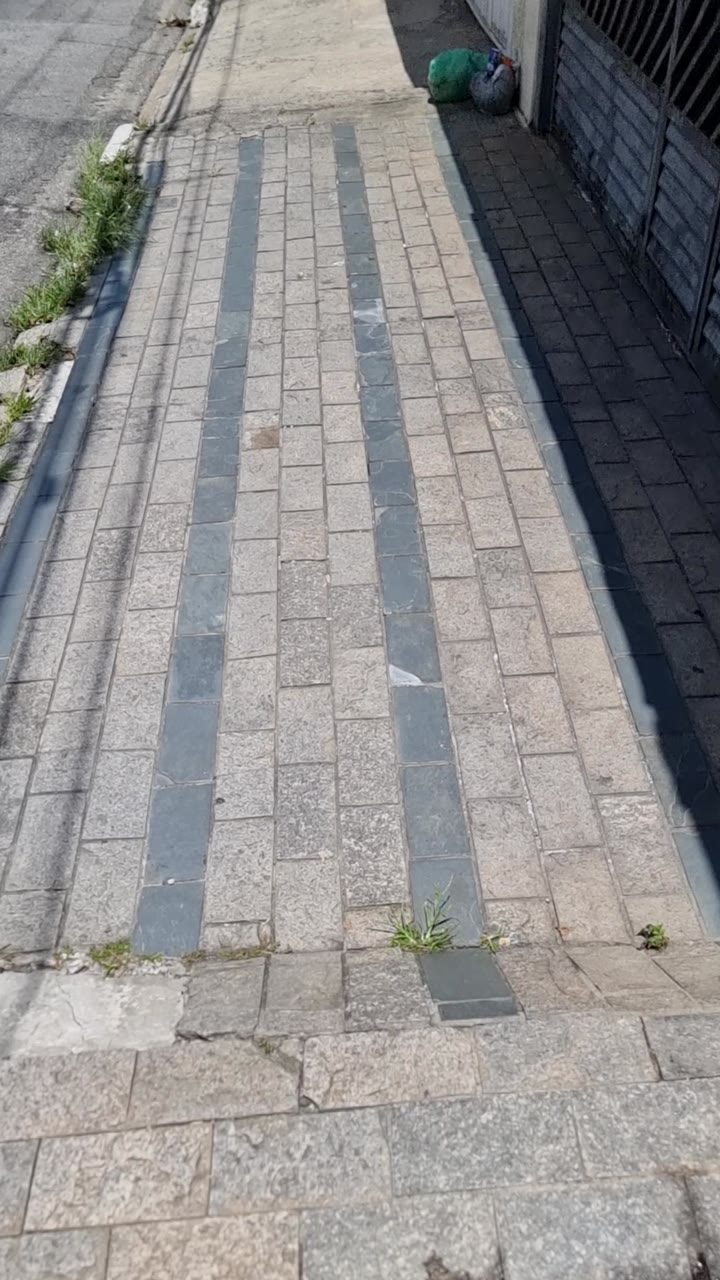obstaculo: (471, 49, 516, 115)
